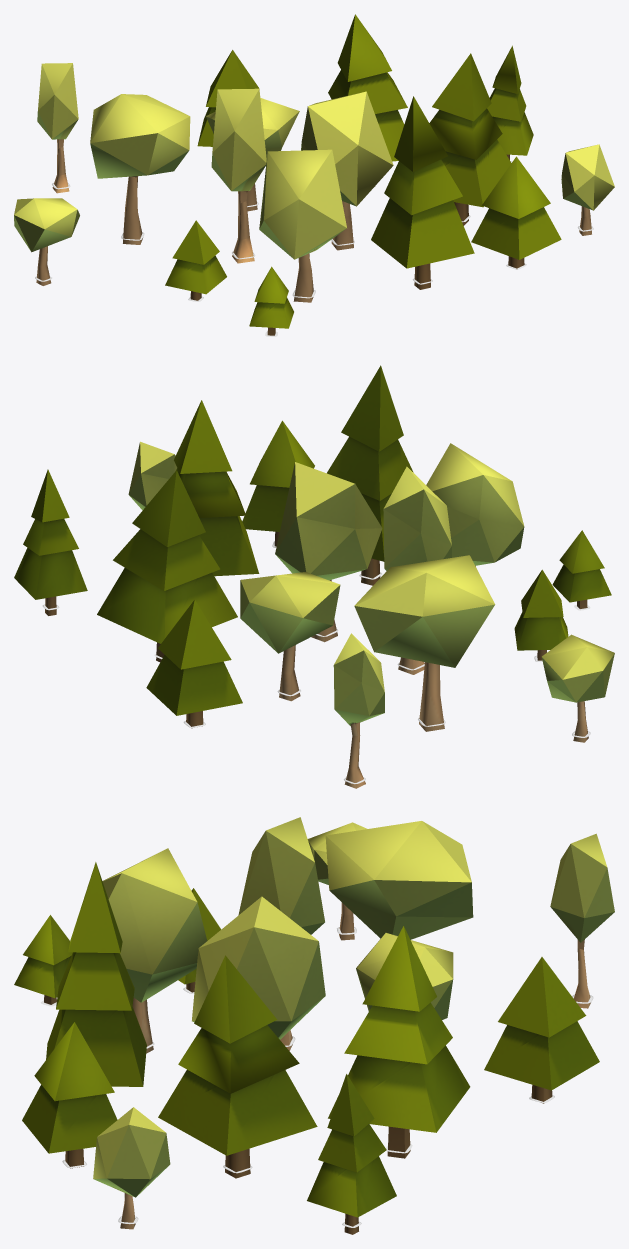
File: forest.glb
The picture shows the model from 3 angles, top to bottom: view 1: azimuth 30°, elevation 25°; view 2: azimuth 150°, elevation 25°; view 3: azimuth 270°, elevation 25°; orthographic projection. The views are drawn at different scales.
Parts seen in each view (by area): view 1: node-0, Cube; view 2: node-0, Cube; view 3: node-0, Cube.
Boxes of the visible parts, bbox=[...] form: node-0: bbox=[14, 14, 614, 335]; Cube: bbox=[35, 161, 593, 336]; node-0: bbox=[14, 365, 614, 788]; Cube: bbox=[42, 541, 590, 784]; node-0: bbox=[14, 817, 614, 1234]; Cube: bbox=[40, 927, 593, 1227].
Size of the model in its own units: 27.79 by 9.86 by 21.53.
Materials: 2 (1 with a texture image).
